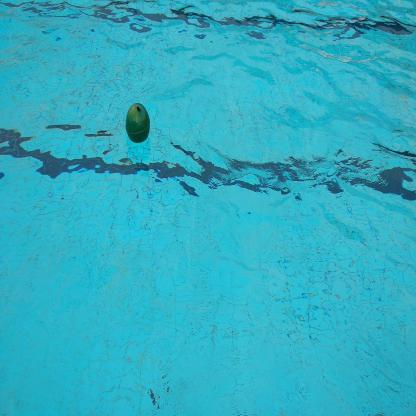green_buoy: (122, 99, 154, 147)
